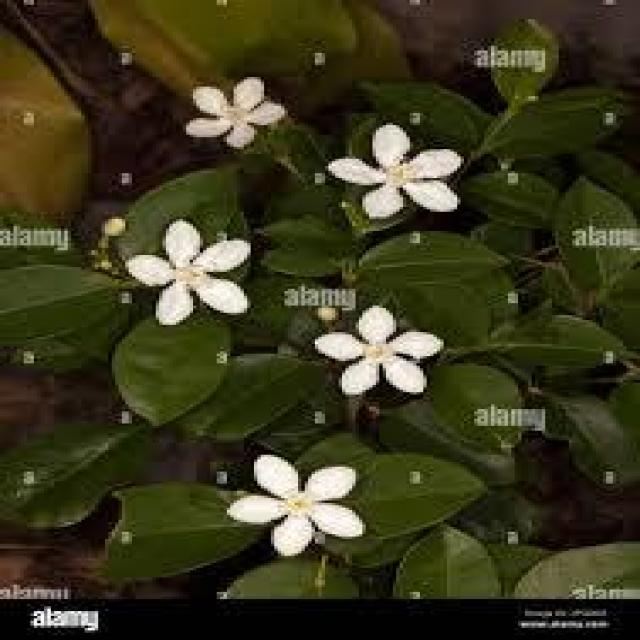organic waste: (210, 451, 372, 555), (120, 212, 259, 325), (316, 125, 472, 221), (313, 306, 452, 404), (186, 77, 284, 144)
